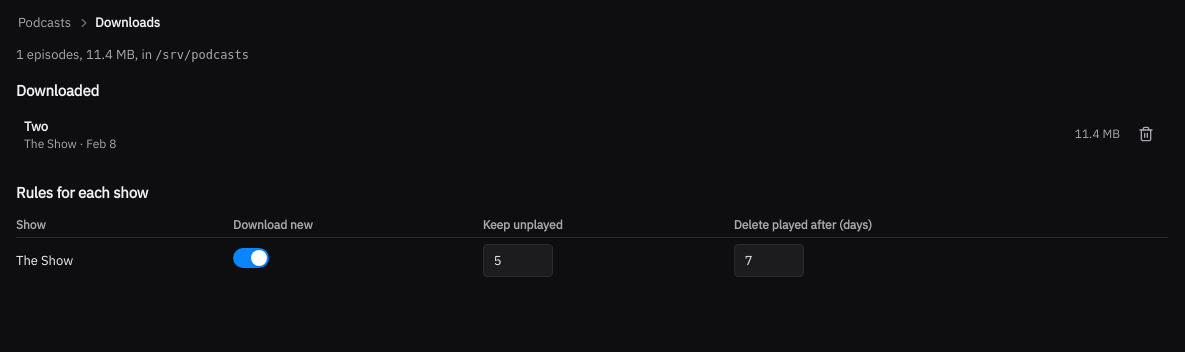
it: Downloads › lists what the server holds with sizes, deletes a file, and edits each show's rules
Expected: the element with test id "downloads-folder" shows "1 episodes, 11.4 MB", 16,46 -> 155,62
Expected: the text with test id "download-size" reads "11.4 MB", 1075,126 -> 1120,141
Click the switch named "Download new episodes of The Show": (251, 258) 233,248 -> 269,268
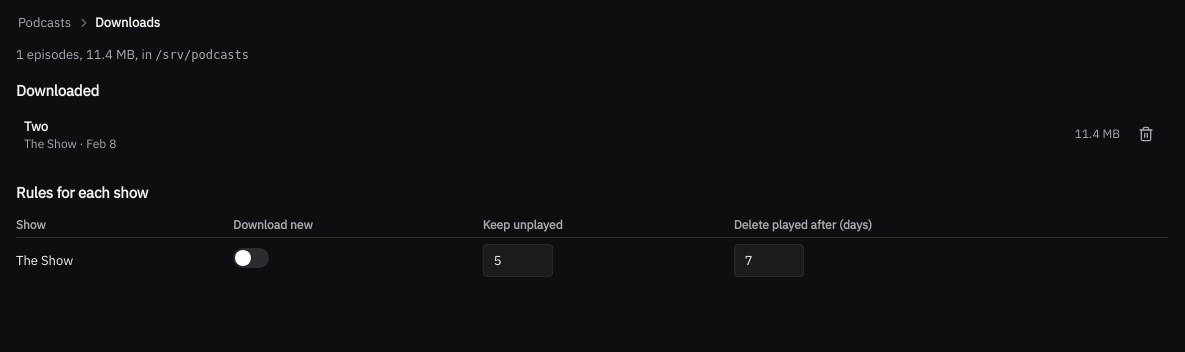
Click the button with test id "download-delete": (1146, 134) 1132,122 -> 1160,146
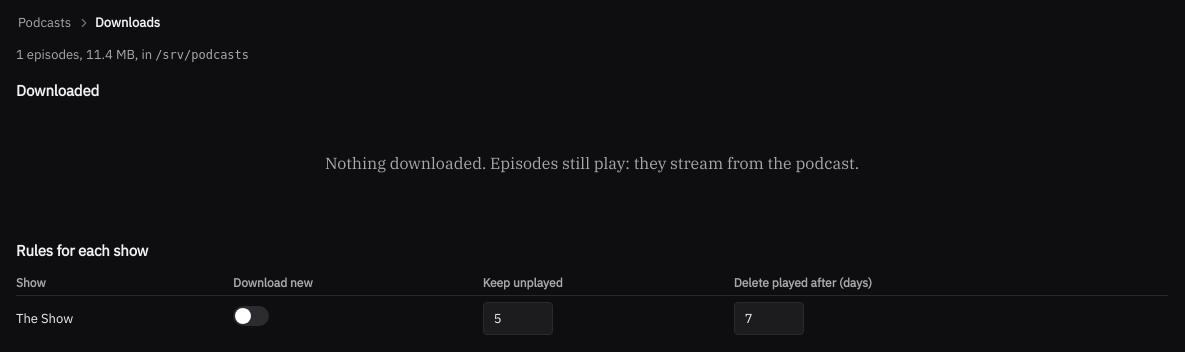
Expected: no list items with test id "download-row" are shown
